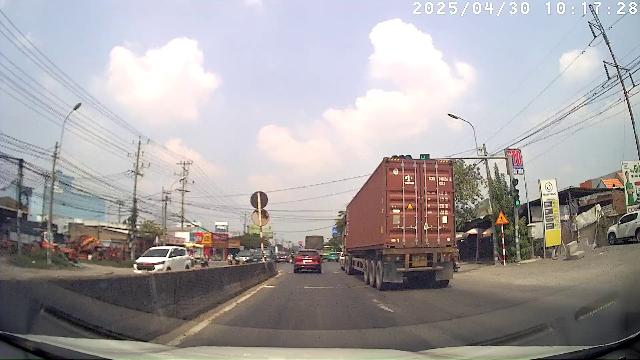102-cam-di-nguoc-chieu: (298, 240, 303, 245)
302a-huong-phai-di-vong-chuong-ngai-vat-1: (298, 245, 303, 249)
